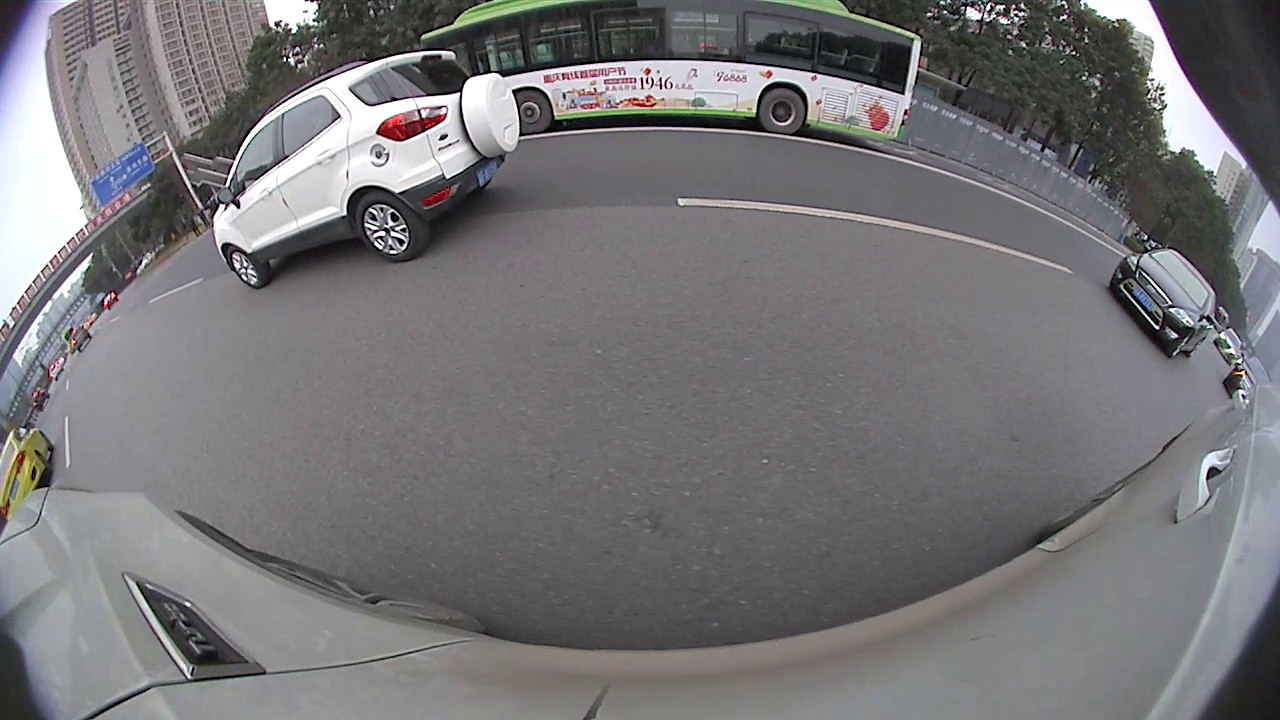bus: (418, 1, 923, 136)
car: (210, 48, 522, 291), (1108, 248, 1217, 360), (1, 427, 56, 521)
front: (223, 246, 270, 288), (513, 87, 552, 133)
rear: (355, 193, 423, 261), (761, 90, 806, 134)
